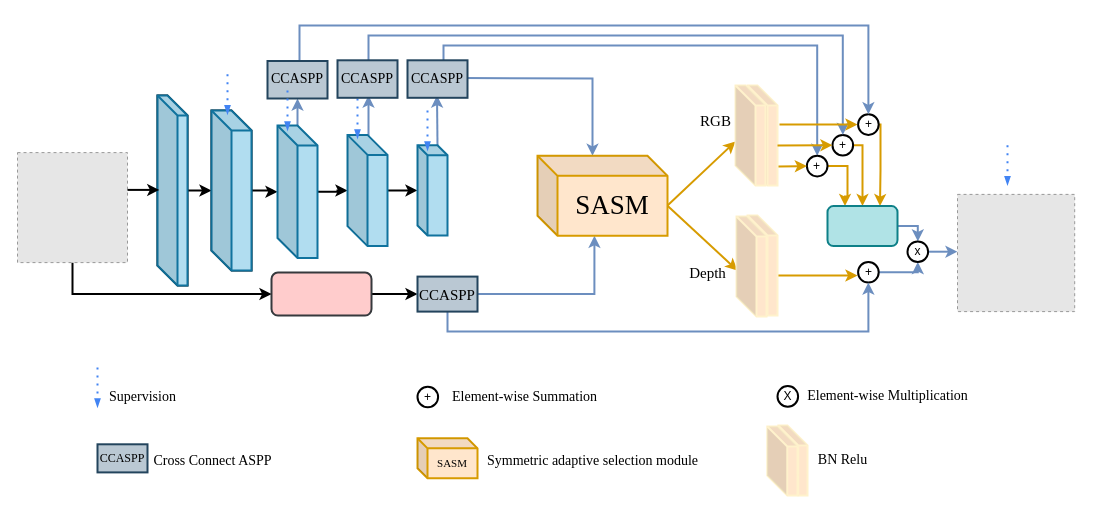
The diagram is 1093 pixels wide and 513 high, and some of its shapes have lost their labels. Grey dashed boxes stand in for pictures. Each missing label, with the centre of its shape:
"depth estimator" goes at pixel 321 293.
"fusion" goes at pixel 862 226.
